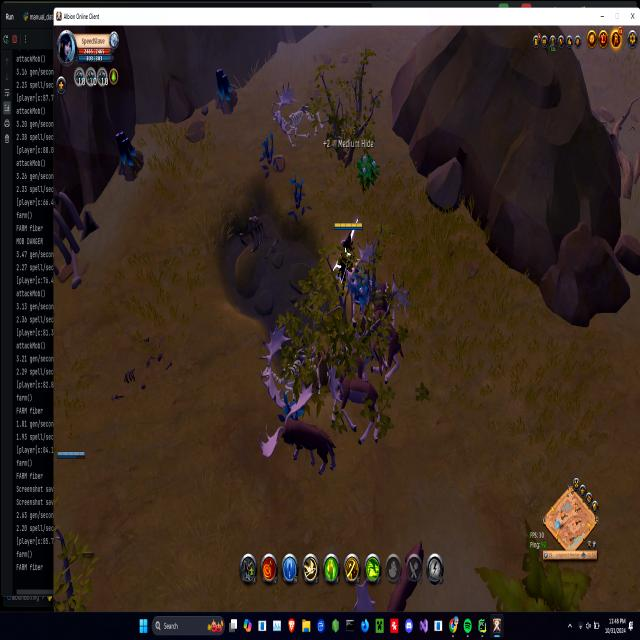hide: (346, 271, 373, 310), (357, 150, 378, 191)
mob: (317, 350, 382, 450), (366, 277, 411, 386)
ore: (254, 375, 340, 481), (352, 539, 427, 614)
player: (113, 128, 145, 182), (214, 67, 239, 114)
red: (334, 217, 362, 274), (55, 448, 86, 462)
